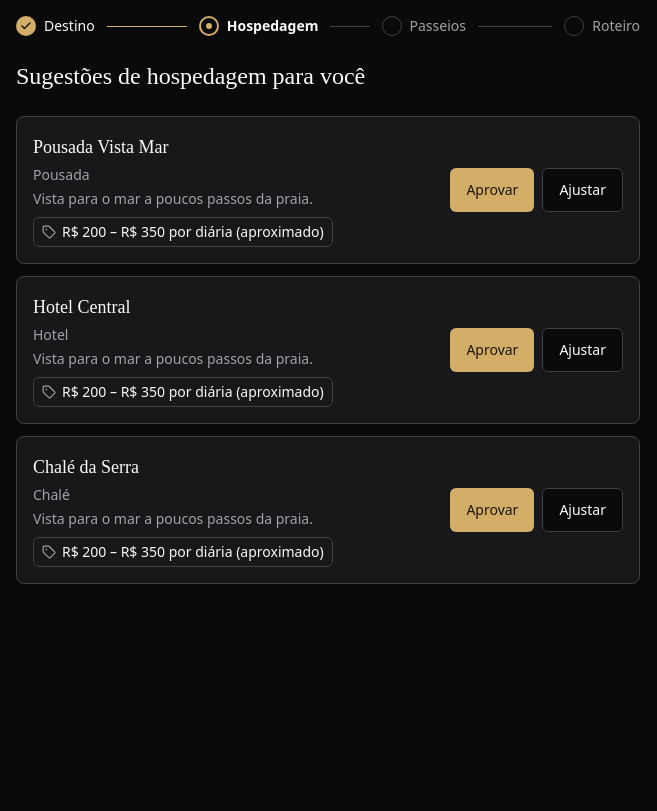
Test case: HospedagemSugestoesScreen — estado Sucesso › 'Ajustar' abre campo de feedback textual e regenera a mesma etapa sem avançar (RF-05.3)
This screenshot has width=657, height=811.
Expected: the text "Pousada Vista Mar" is shown, [33,137,169,157]
Click the 1st button "Ajustar".
click(583, 190)  # box [542,168,623,212]
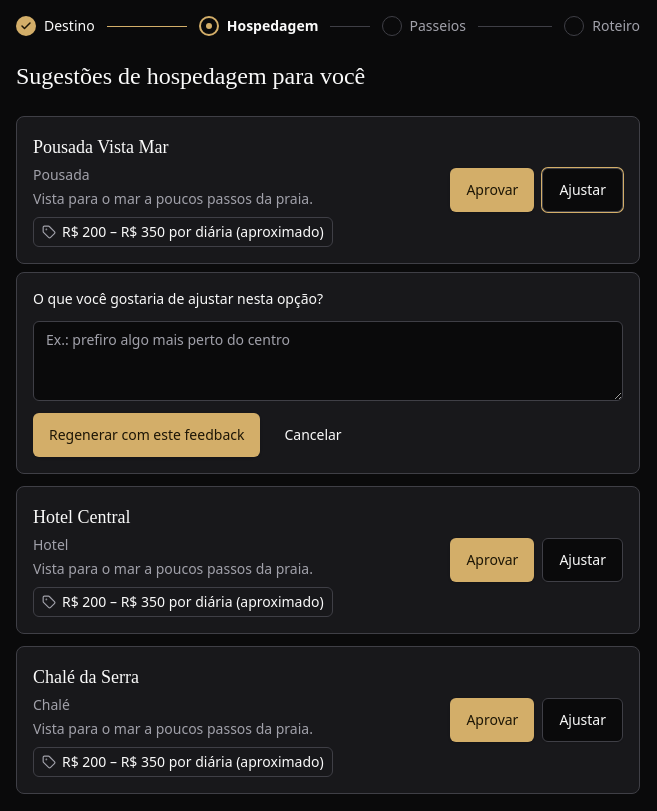
Type "Prefiro algo mais perto do centro" into the text box labelled "O que você gostaria de ajustar nesta opção?".
click(328, 361); type("Prefiro algo mais perto do centro")  # box [33,321,623,401]
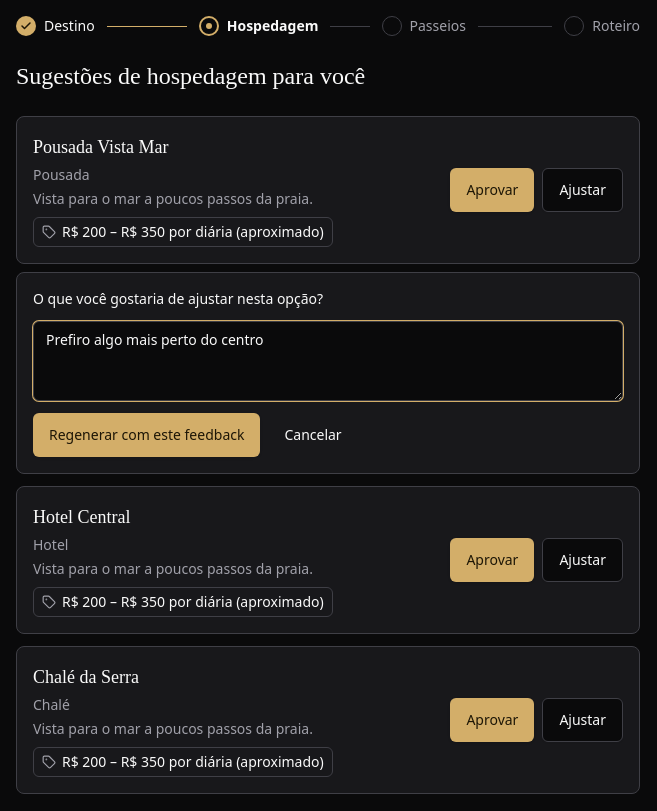
Click the button "Regenerar com este feedback".
click(147, 435)  # box [33,413,260,457]
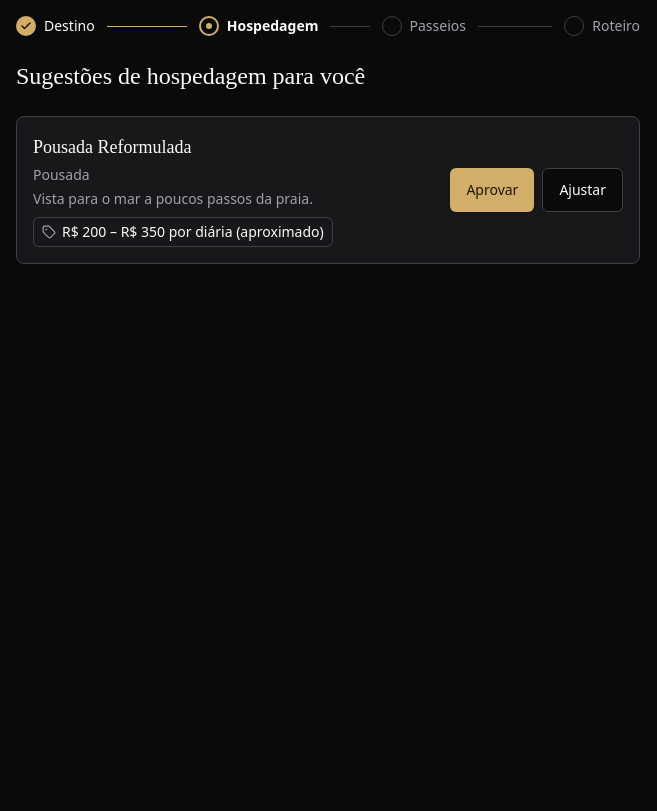
Result: the text "Pousada Reformulada" is shown at [33,137,192,157]
